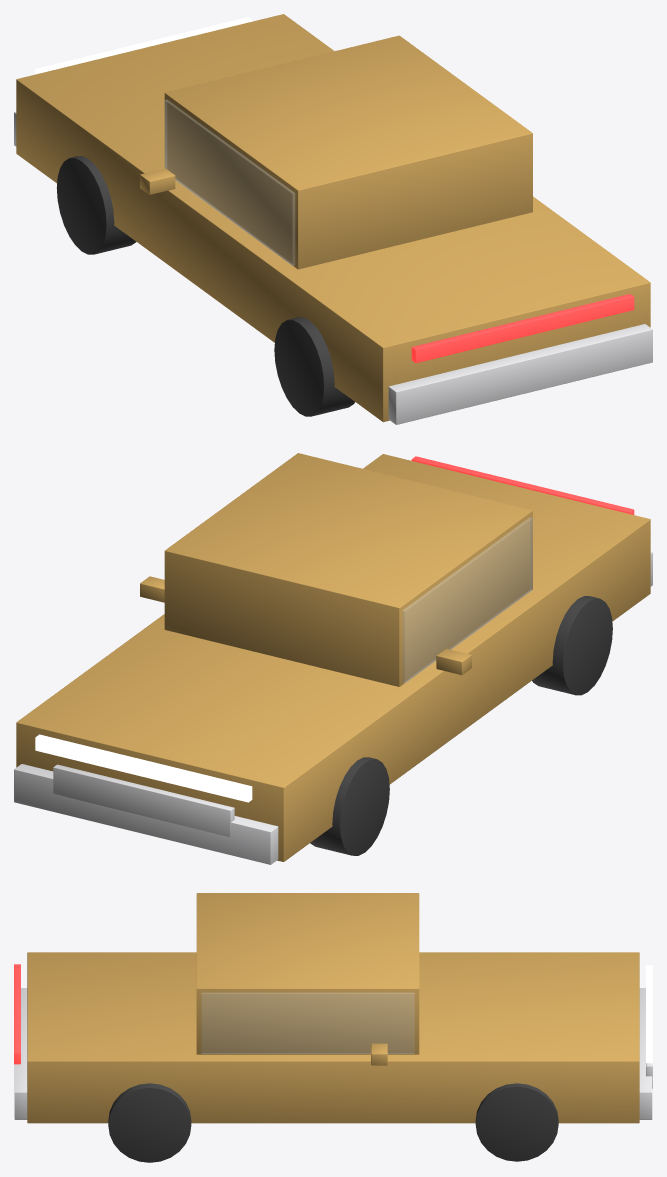
Rendered from vehicle.glb.
The picture shows the model from 3 angles, top to bottom: view 1: azimuth 30°, elevation 25°; view 2: azimuth 150°, elevation 25°; view 3: azimuth 270°, elevation 25°; orthographic projection. The views are drawn at different scales.
Visible parts, largest first — view 1: BODY_Main, BODY_Roof, BODY_Bumpers_Rear, GLASS_Greenhouse, WHEEL_RR_Tire, WHEEL_FR_Tire, LIGHT_Taillights, LIGHT_Headlights, BODY_Mirror_R; view 2: BODY_Main, BODY_Roof, GLASS_Greenhouse, BODY_Bumpers_Front, BODY_Grille, WHEEL_RR_Tire, WHEEL_FR_Tire, LIGHT_Headlights, LIGHT_Taillights, BODY_Mirror_R; view 3: BODY_Main, BODY_Roof, GLASS_Greenhouse, WHEEL_RL_Tire, WHEEL_FL_Tire, BODY_Bumpers_Rear, BODY_Bumpers_Front, LIGHT_Taillights, LIGHT_Headlights.
Boxes of the visible parts, left/top/right/bottom form: BODY_Main: left=16, top=14, right=650, bottom=422; BODY_Roof: left=164, top=35, right=532, bottom=269; BODY_Bumpers_Rear: left=388, top=324, right=652, bottom=424; GLASS_Greenhouse: left=164, top=100, right=294, bottom=265; WHEEL_RR_Tire: left=274, top=317, right=354, bottom=416; WHEEL_FR_Tire: left=56, top=156, right=136, bottom=254; LIGHT_Taillights: left=411, top=294, right=634, bottom=362; LIGHT_Headlights: left=35, top=17, right=252, bottom=74; BODY_Mirror_R: left=140, top=168, right=175, bottom=194; BODY_Main: left=16, top=454, right=650, bottom=861; BODY_Roof: left=164, top=453, right=532, bottom=686; GLASS_Greenhouse: left=402, top=517, right=532, bottom=683; BODY_Bumpers_Front: left=14, top=764, right=278, bottom=864; BODY_Grille: left=53, top=764, right=234, bottom=837; WHEEL_RR_Tire: left=532, top=596, right=612, bottom=695; WHEEL_FR_Tire: left=310, top=757, right=389, bottom=855; LIGHT_Headlights: left=35, top=734, right=252, bottom=802; LIGHT_Taillights: left=411, top=456, right=634, bottom=514; BODY_Mirror_R: left=436, top=648, right=471, bottom=675; BODY_Main: left=27, top=952, right=639, bottom=1123; BODY_Roof: left=196, top=893, right=419, bottom=1054; GLASS_Greenhouse: left=201, top=993, right=414, bottom=1053; WHEEL_RL_Tire: left=108, top=1083, right=191, bottom=1162; WHEEL_FL_Tire: left=475, top=1083, right=558, bottom=1161; BODY_Bumpers_Rear: left=14, top=988, right=27, bottom=1119; BODY_Bumpers_Front: left=639, top=988, right=652, bottom=1119; LIGHT_Taillights: left=14, top=964, right=20, bottom=1064; LIGHT_Headlights: left=646, top=965, right=652, bottom=1063.
Bounding box in the file's own units: 2.24 × 1.3 × 4.61.
